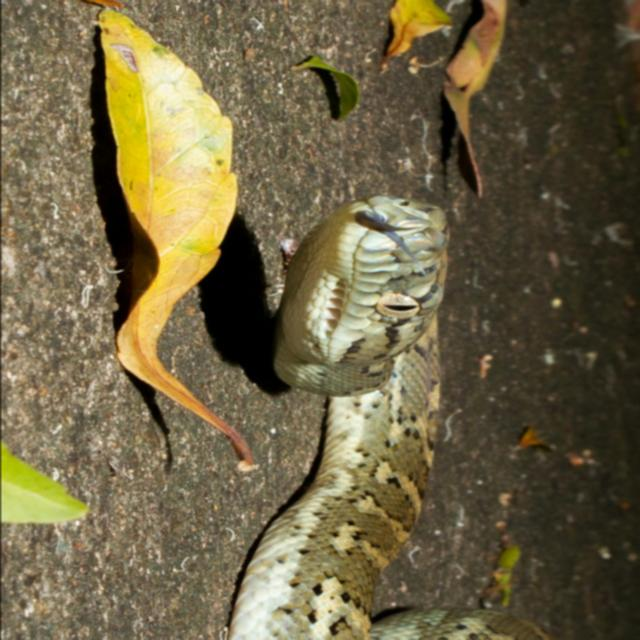snake: (217, 194, 626, 640)
